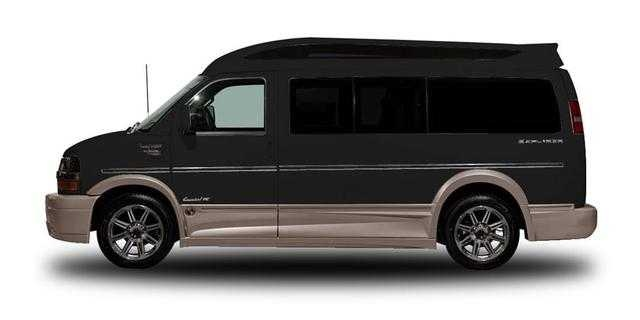van: (46, 37, 595, 270)
